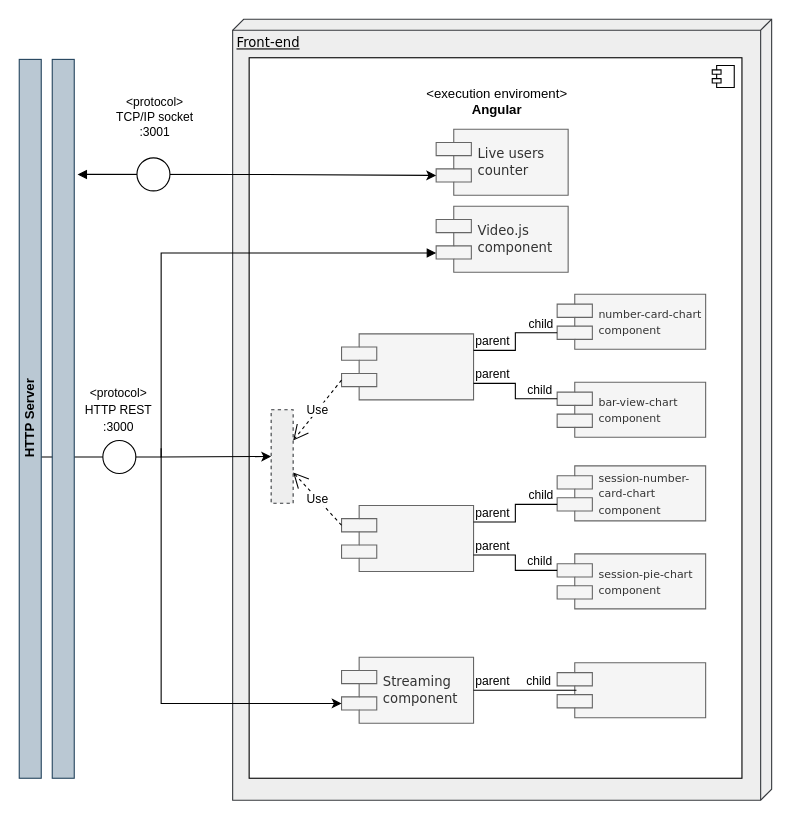
Some shapes in this 791 by 820 pixel diagram are drawn without their labels. The box of each missing label's shape, as (x1, y1, x2, y2) in pixels:
Dashboard component: (340, 333, 474, 400)
metrics.service: (270, 409, 293, 503)
Session dashboard component: (340, 504, 474, 571)
streaming-list component: (556, 662, 706, 718)
WebSocket Server: (51, 58, 74, 778)
